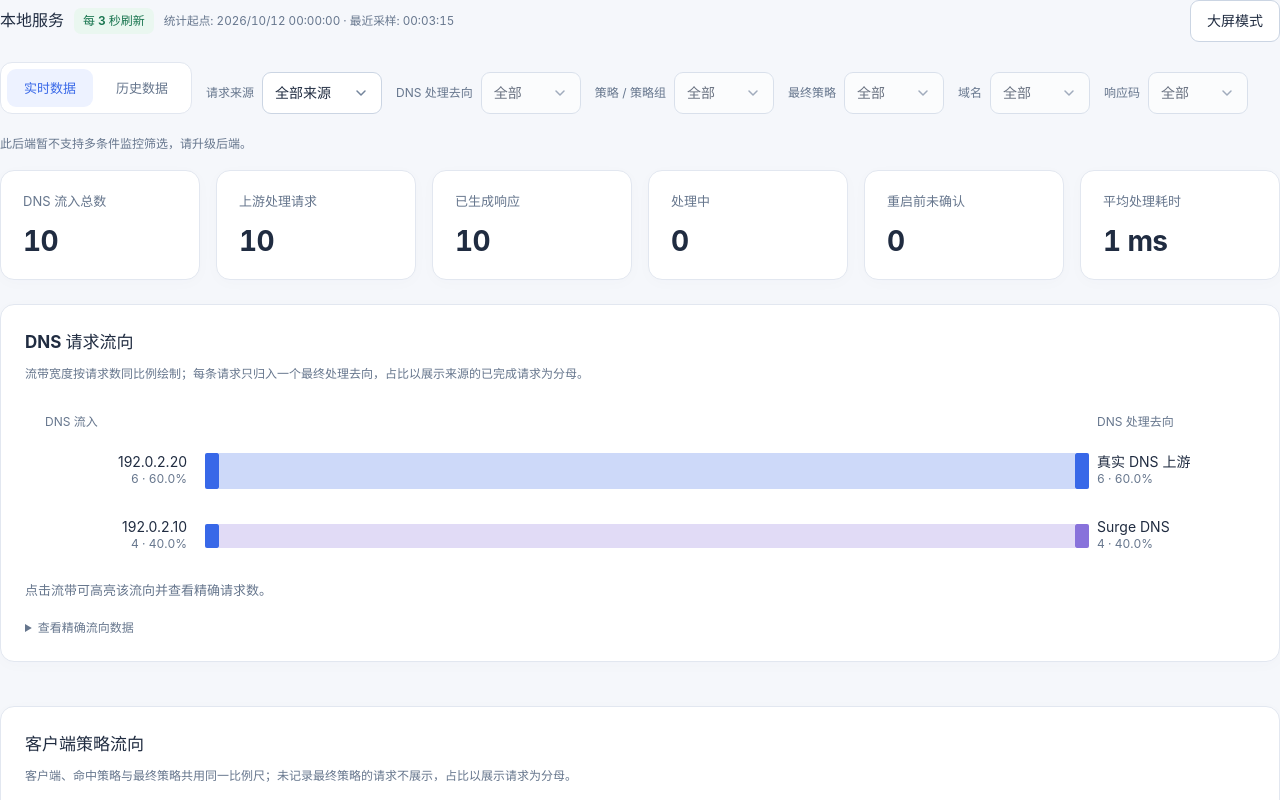
Test: shows a localized historical-query failure without fabricated statistics
The image size is (1280, 800).
Click the button "历史数据". click: click(142, 88)
box: [99,69,185,107]
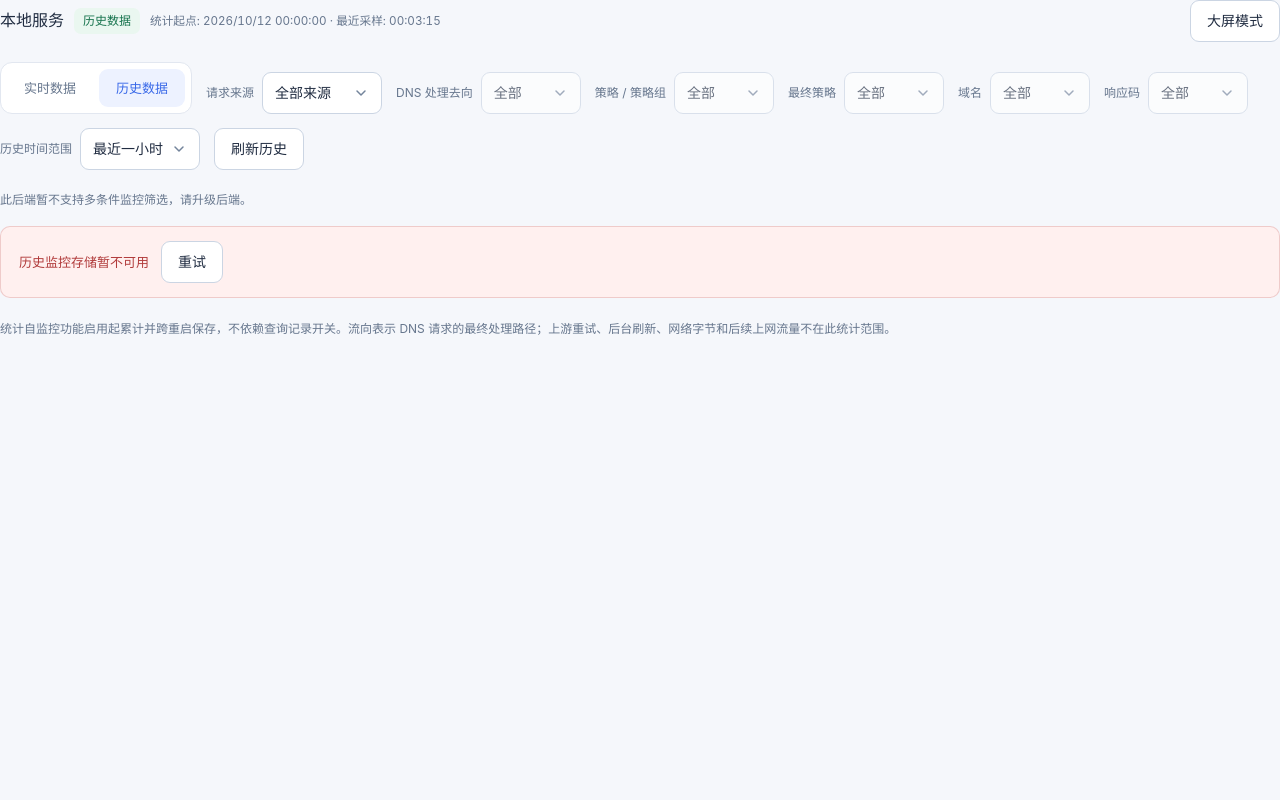
Check: the message shows "历史监控存储暂不可用", box [19,254,149,270]
Check: the element with class "monitor-metrics" is gone
Check: the button "重试" is shown, box [161,241,223,283]
